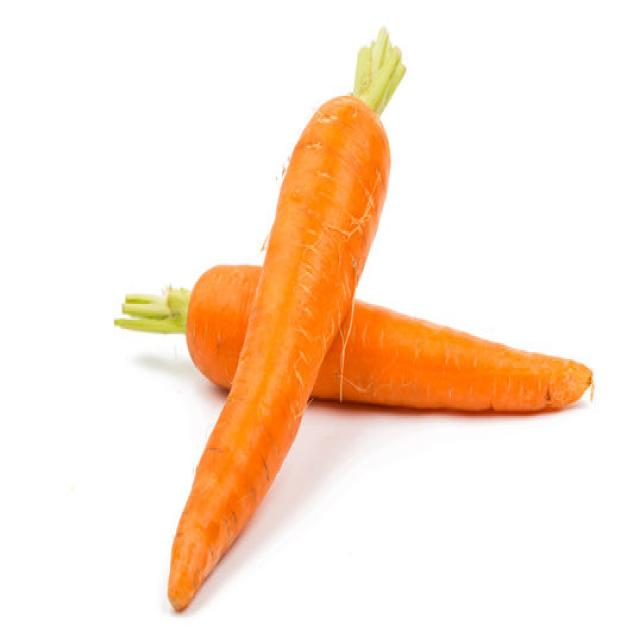Carrot: (165, 25, 406, 611), (114, 267, 594, 414)
